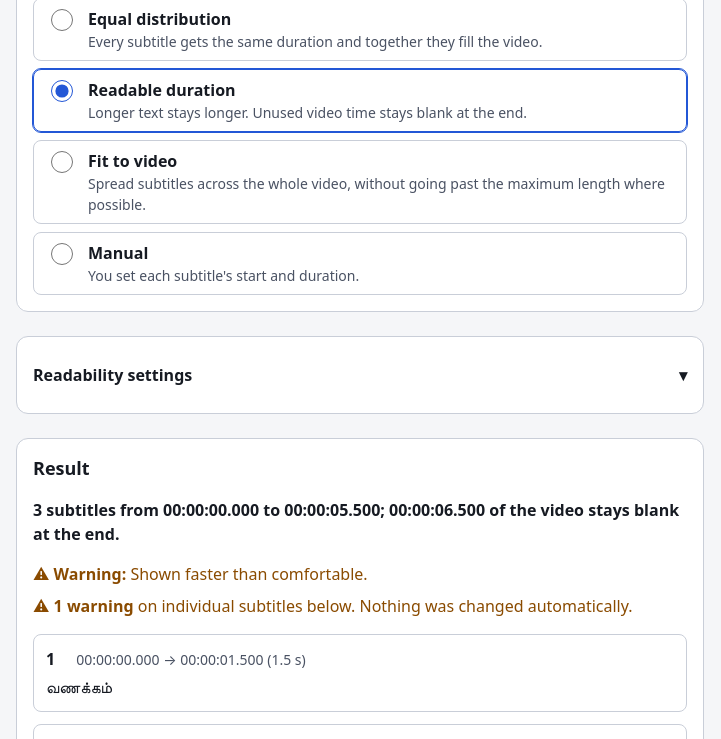
it: Text workflow › validates readability settings and sends nothing until they are valid
Earlier steps of the test are not shown.
Later steps or results of the test are not shown.
(page scrolled)
Replace the text in the field named "Minimum duration" with "9": (360, 375) [16, 336, 704, 414]
(page scrolled)
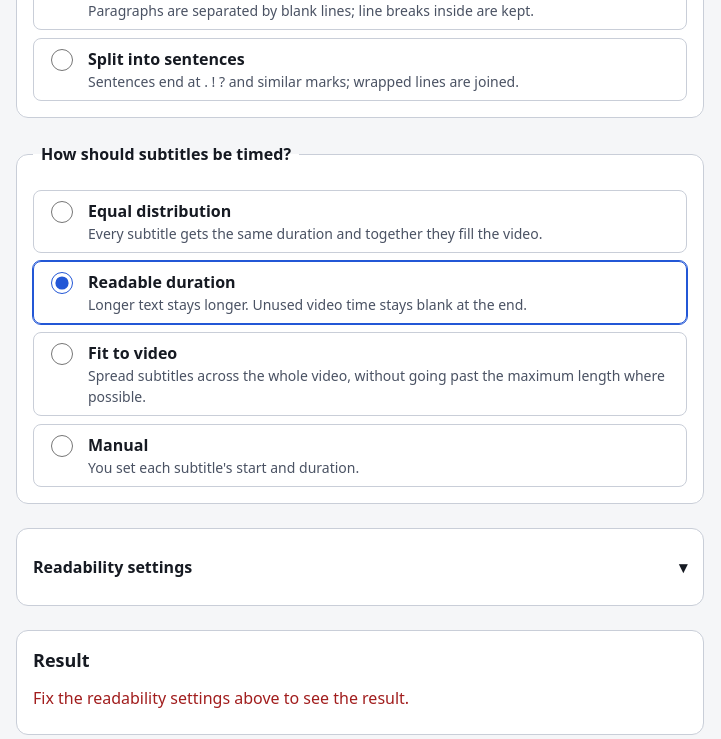
Now the text "Fix the readability settings above to see the result." is shown, box [33, 687, 409, 709]
